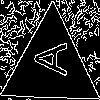A: (26, 40, 67, 76)
